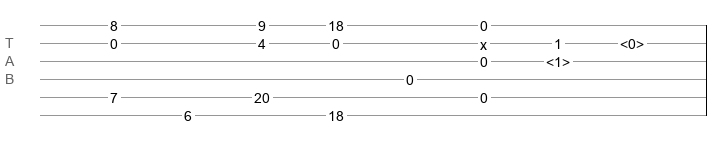0: (110, 36, 118, 46), (332, 36, 340, 46), (406, 72, 414, 82), (480, 18, 488, 28), (480, 54, 488, 64), (480, 90, 488, 100)
1: (554, 36, 562, 46)
18: (328, 18, 344, 28), (328, 108, 344, 118)
20: (254, 90, 270, 100)
4: (258, 36, 266, 46)
6: (184, 108, 192, 118)
7: (110, 90, 118, 100)
8: (110, 18, 118, 28)
9: (258, 18, 266, 28)
harmonic: (546, 54, 570, 64), (620, 36, 644, 46)
x: (480, 37, 487, 45)
